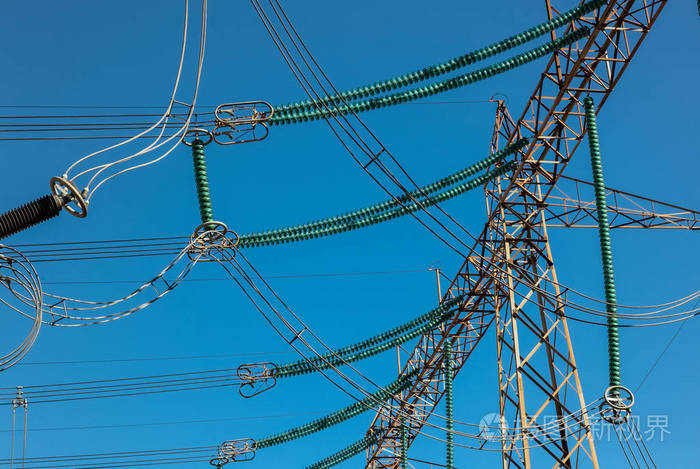insulator: (265, 3, 606, 128), (233, 137, 531, 250), (265, 293, 466, 382), (256, 369, 421, 449), (580, 93, 623, 392), (307, 429, 385, 469), (192, 137, 216, 231), (441, 340, 456, 469), (396, 415, 412, 469)
